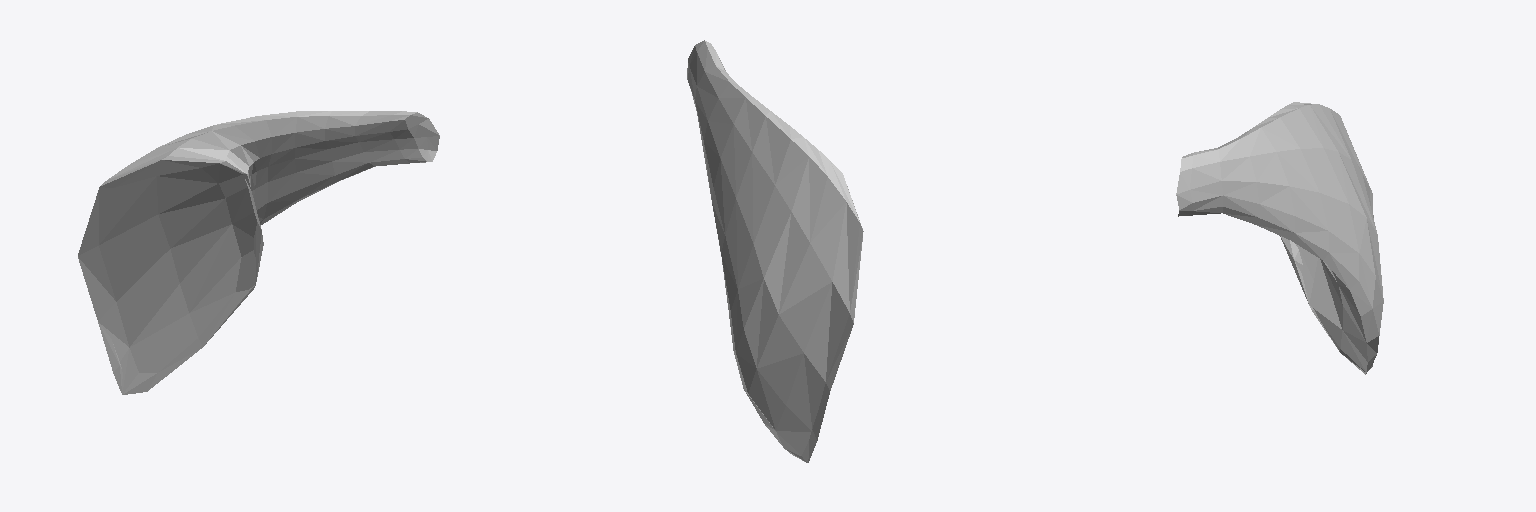
The model's file is muscle_3_right.obj.
3 views of the same model, side by side, from view 1: azimuth 30°, elevation 25°; view 2: azimuth 150°, elevation 25°; view 3: azimuth 270°, elevation 25° (orthographic).
Parts seen in each view (by area): view 1: muscle_3_right_3DAnatomyModel_Torso.054; view 2: muscle_3_right_3DAnatomyModel_Torso.054; view 3: muscle_3_right_3DAnatomyModel_Torso.054.
Part boxes in pixels (bbox=[...]): muscle_3_right_3DAnatomyModel_Torso.054: bbox=[78, 111, 439, 394]; muscle_3_right_3DAnatomyModel_Torso.054: bbox=[687, 40, 863, 462]; muscle_3_right_3DAnatomyModel_Torso.054: bbox=[1176, 102, 1383, 374].
Size of the model in its own units: 1.22 by 1.34 by 0.8315.